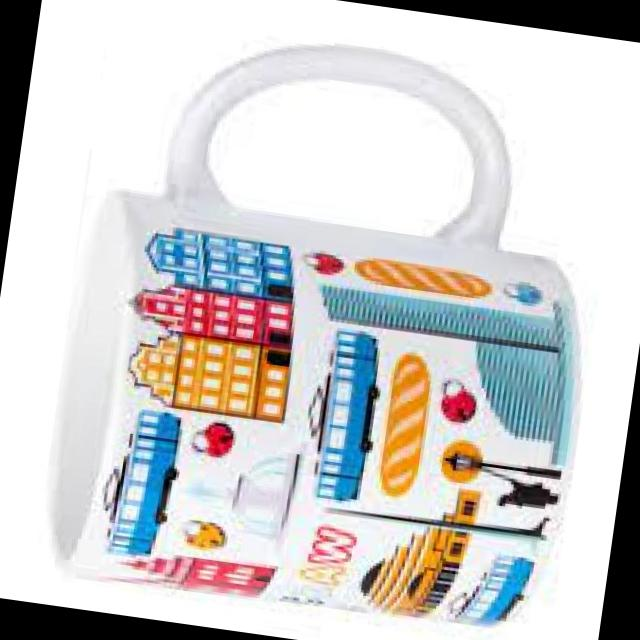Coffee Mug: (31, 11, 626, 640)
